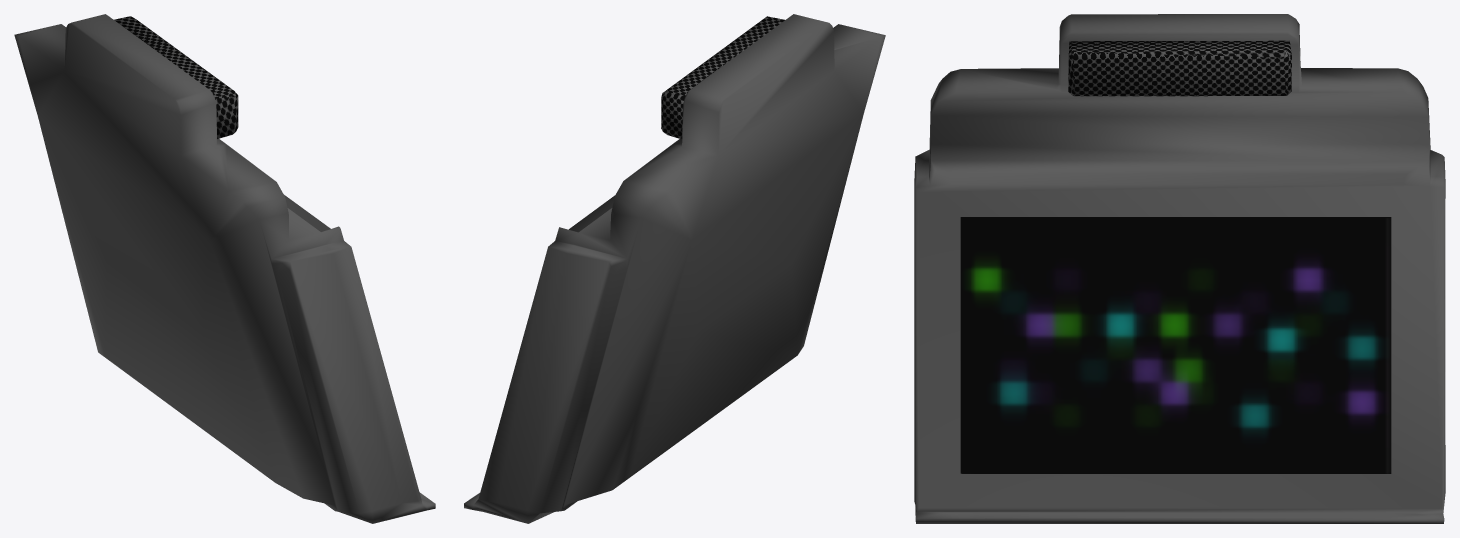
Rendered from tablet_base.dae.
3 renders of one model, left to right at view 1: azimuth 30°, elevation 25°; view 2: azimuth 150°, elevation 25°; view 3: azimuth 270°, elevation 25°, orthographic. The views are drawn at different scales.
Parts seen in each view (by area): view 1: tablet_base, microphone; view 2: tablet_base, microphone; view 3: tablet_base, display, microphone.
Boxes of the visible parts, left/top/right/bottom form: tablet_base: left=14, top=14, right=435, bottom=523; microphone: left=114, top=16, right=238, bottom=138; tablet_base: left=464, top=14, right=885, bottom=523; microphone: left=661, top=16, right=784, bottom=139; tablet_base: left=914, top=14, right=1445, bottom=523; display: left=960, top=217, right=1391, bottom=473; microphone: left=1068, top=40, right=1291, bottom=96.
Bounding box in the file's own units: 0.0804 × 0.1912 × 0.1654.
Materials: 3 (3 with a texture image).
